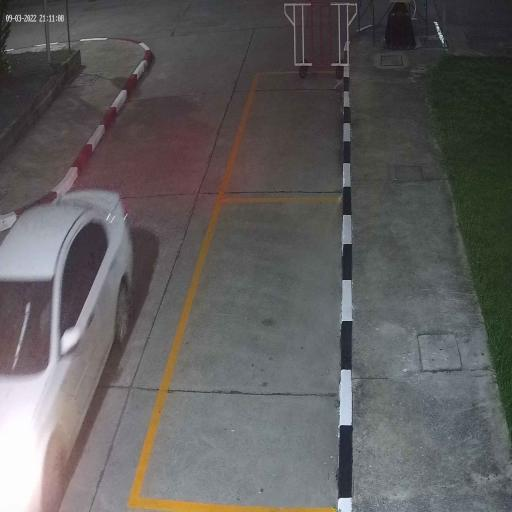car: (0, 192, 132, 512)
